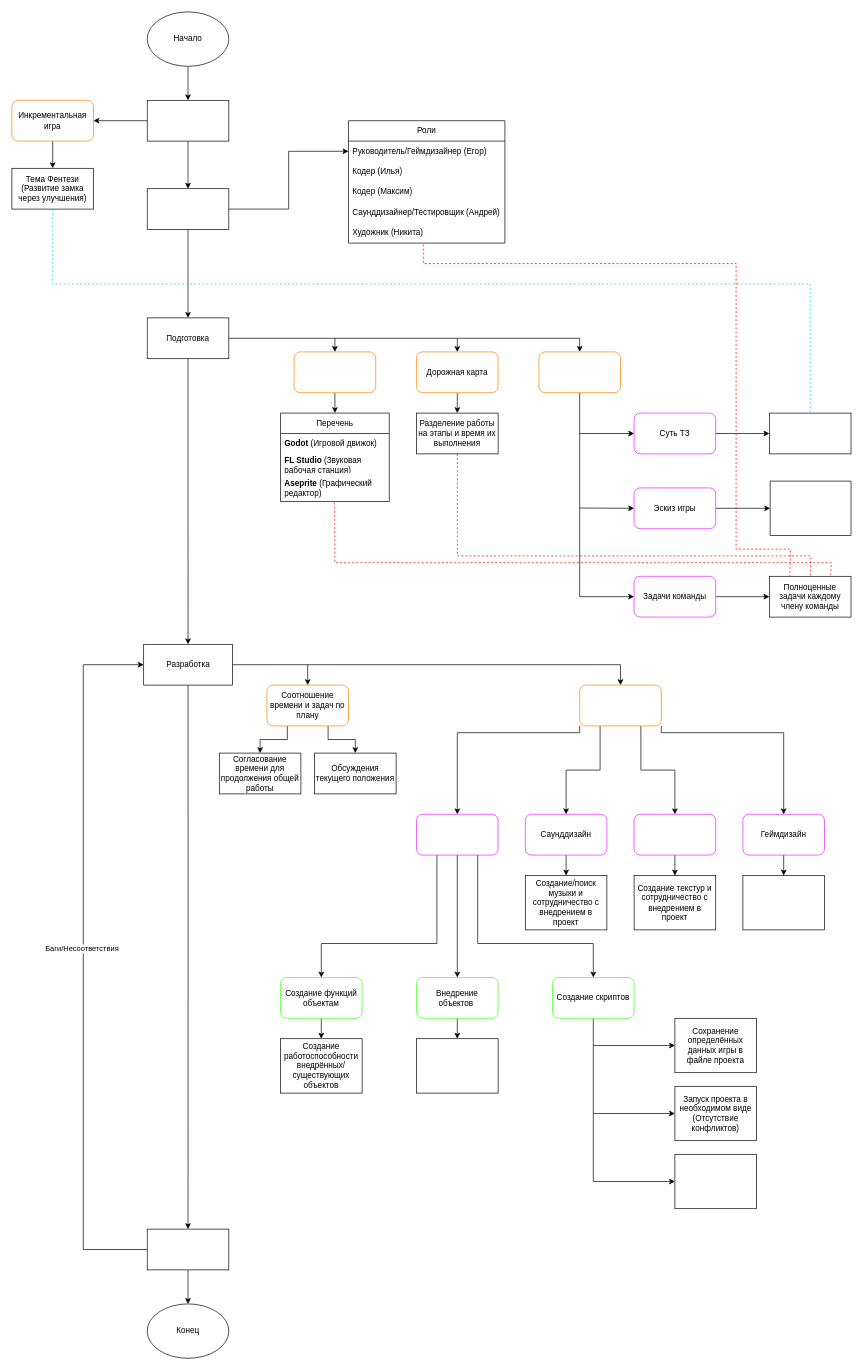
The diagram is 863 pixels wide and 1370 high, and some of its shapes have lost their labels. Each missing label, with the centre of its shape:
"Визуальный набросок проекта. Описание ключевых составляющих" belongs at point 810,508.
"Внедрение и расположение звуков и текстур внутри движка" belongs at point 457,1065.
"Выполнение задач" belongs at point 620,705.
"Идея проекта" belongs at point 188,120.
"Код" belongs at point 457,834.
"Описание сути проекта" belongs at point 810,433.
"Организация и распределение ролей команды" belongs at point 188,209.
"Освоение программ" belongs at point 334,372.
"Создание взаимосвязи всех скриптов проекта" belongs at point 715,1181.
"Создание эскиза и согласование остальных частей проекта" belongs at point 783,902.
"Текстуры" belongs at point 674,834.
"Тестировка, перепроверка, утверждение" belongs at point 188,1249.
"Техническое задание" belongs at point 579,372.
